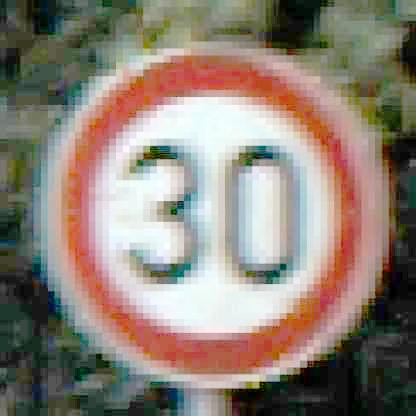Speed Limit -30-: (34, 46, 388, 390)
